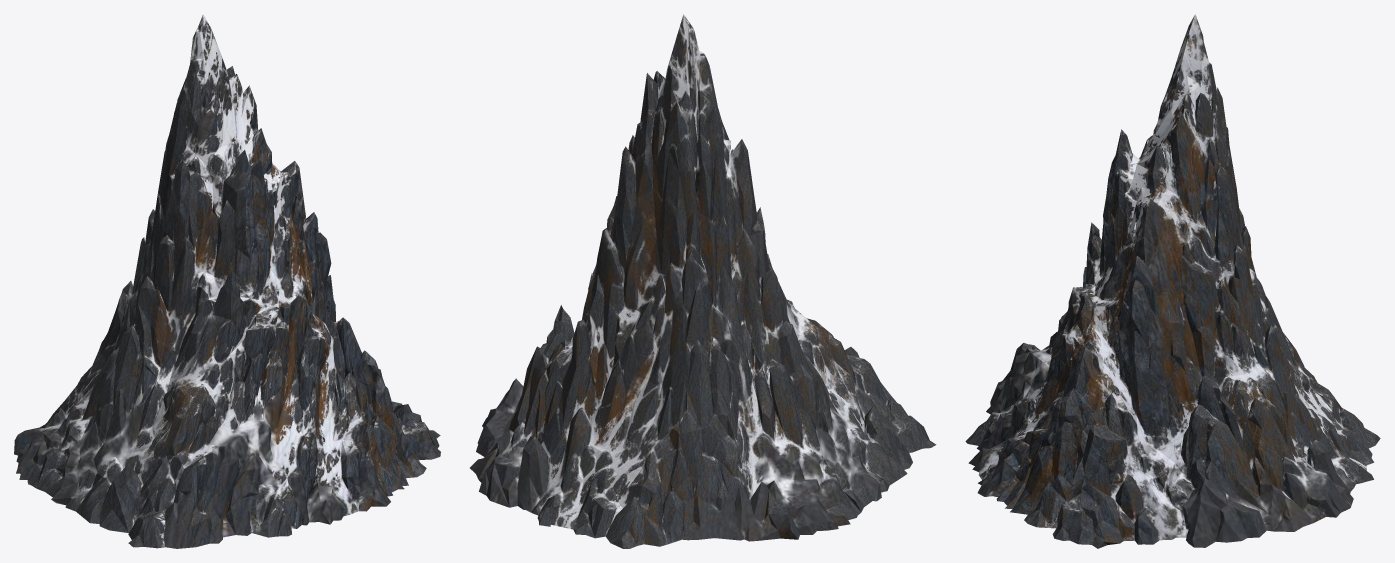
The model's file is peak_tall.glb.
The picture shows the model from 3 angles, left to right: view 1: azimuth 30°, elevation 25°; view 2: azimuth 150°, elevation 25°; view 3: azimuth 270°, elevation 25°; orthographic projection. The views are drawn at different scales.
Parts seen in each view (by area): view 1: peak_tall; view 2: peak_tall; view 3: peak_tall.
Boxes of the visible parts, x1=… form: peak_tall: x1=14, y1=14, x2=440, y2=548; peak_tall: x1=470, y1=14, x2=936, y2=548; peak_tall: x1=965, y1=14, x2=1380, y2=548.
Bounding box in the file's own units: 1.13 × 1.3 × 1.11.
1 material, 1 textured.
